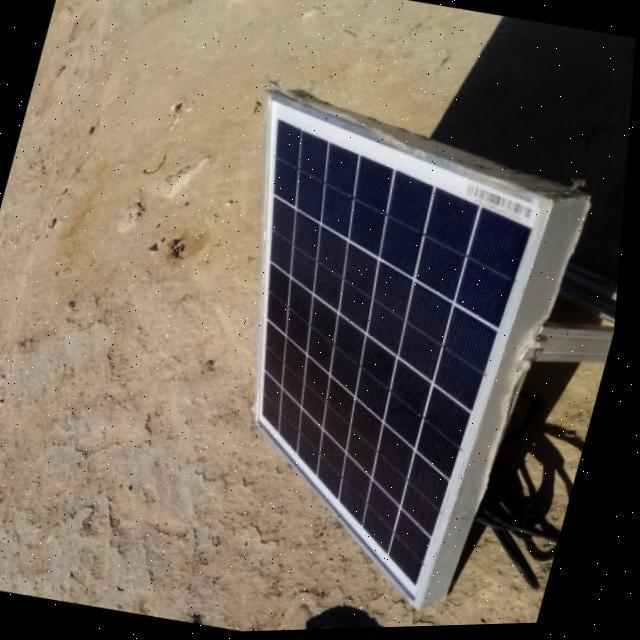Normal Solar Panel: (156, 87, 576, 616)
